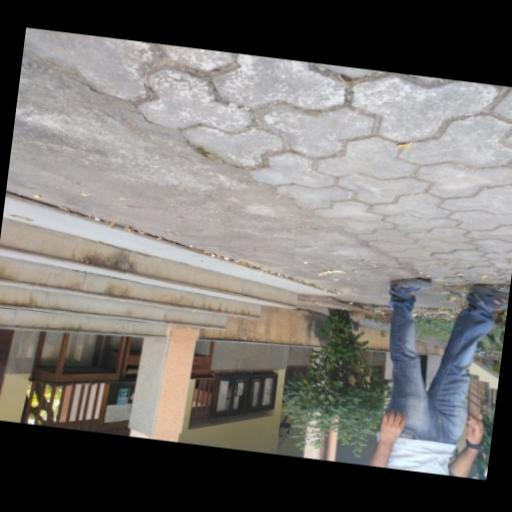stairs: (0, 214, 309, 336)
